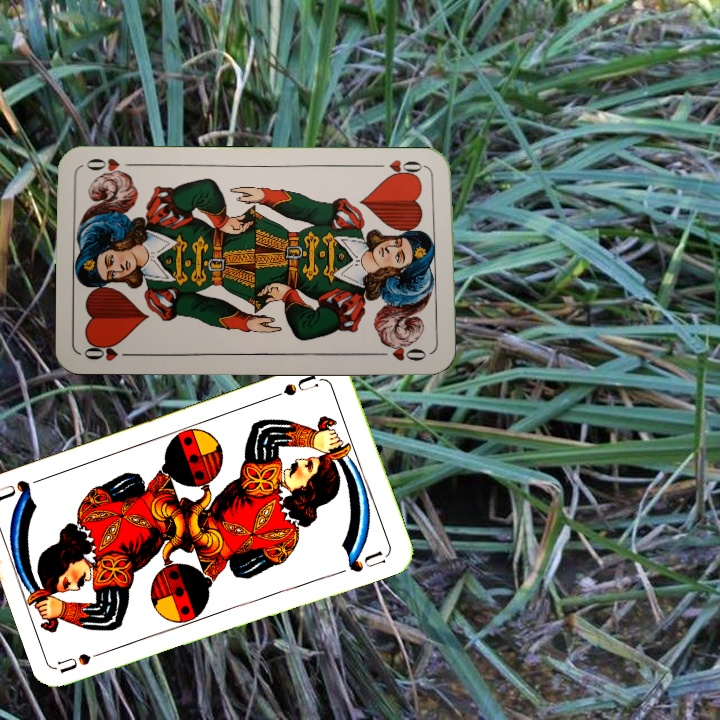HO: (371, 155, 430, 181), (80, 339, 139, 364)
SU: (55, 644, 114, 676), (268, 370, 325, 401)
